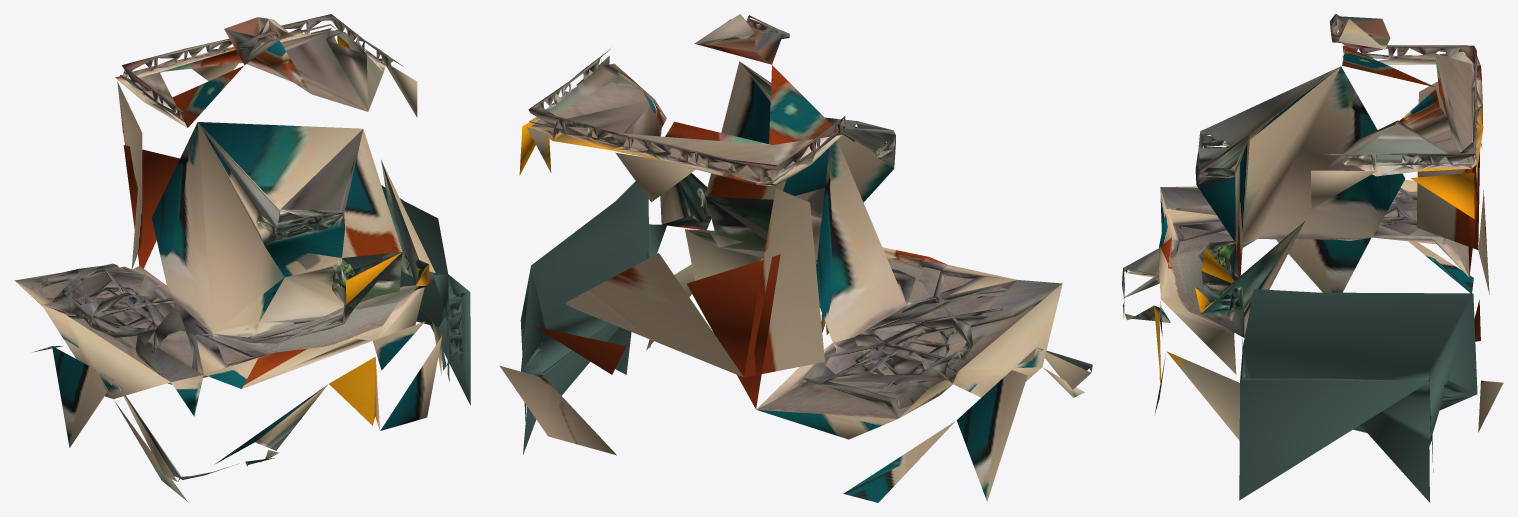
File: JHB_Building02_LOD2.fbx
The picture shows the model from 3 angles, left to right: view 1: azimuth 30°, elevation 25°; view 2: azimuth 150°, elevation 25°; view 3: azimuth 270°, elevation 25°; orthographic projection. The views are drawn at different scales.
Visible parts, largest first — view 1: JHB_Building02_Silhouette_LOD2; view 2: JHB_Building02_Silhouette_LOD2; view 3: JHB_Building02_Silhouette_LOD2.
Part boxes in pixels (left/top/right/bottom): JHB_Building02_Silhouette_LOD2: left=14, top=14, right=470, bottom=502; JHB_Building02_Silhouette_LOD2: left=499, top=14, right=1092, bottom=502; JHB_Building02_Silhouette_LOD2: left=1122, top=14, right=1503, bottom=502.
Size of the model in its own units: 12.8 by 13.27 by 11.27.
4 materials, 3 textured.
